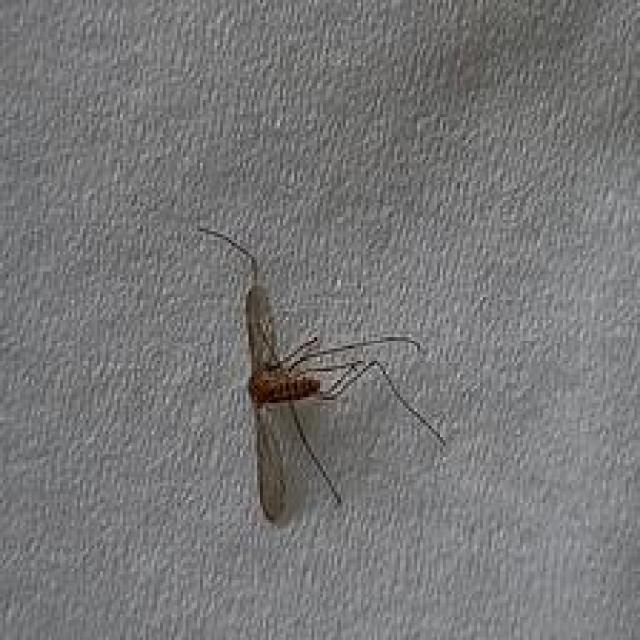Culex: (193, 225, 447, 524)
